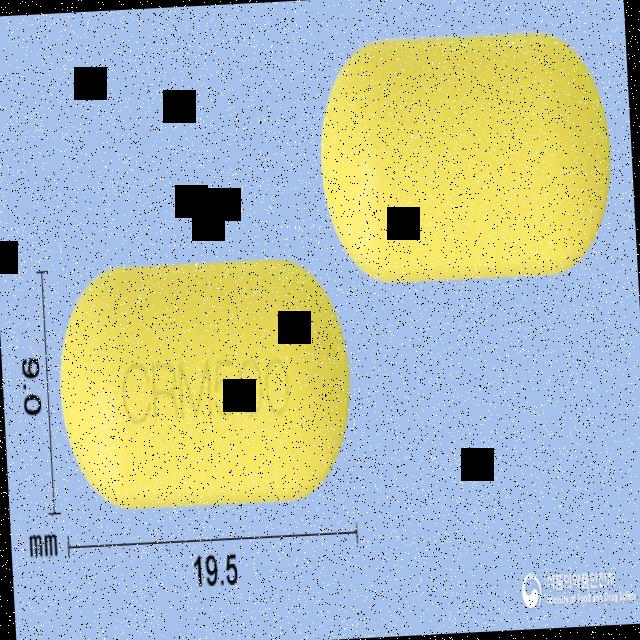Crama: (54, 253, 356, 512)
